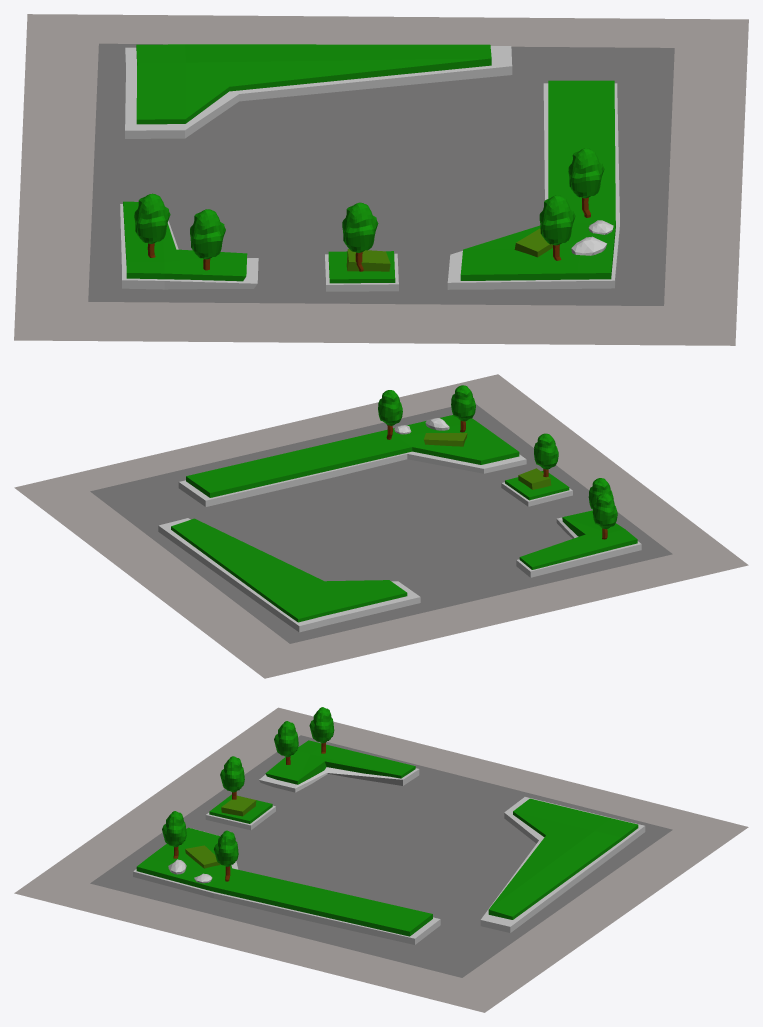
The model's file is sz_out4simp.glb.
3 views of the same model, one above another, from view 1: azimuth 30°, elevation 25°; view 2: azimuth 150°, elevation 25°; view 3: azimuth 270°, elevation 25° (orthographic). The views are drawn at different scales.
Parts seen in each view (by area): view 1: Ground, Ground.001, TreeGrass.003, TreeGrass.001, PlantHolder.003, TreeGrass.002, PlantHolder.002, PlantHolder, Leaves.001, Leaves, Leaves.002, Leaves.003 (+5 smaller); view 2: Ground, Ground.001, TreeGrass.001, TreeGrass.003, PlantHolder.002, PlantHolder.003, TreeGrass.002, PlantHolder, TreeGrass, Leaves.001, Leaves.002, Leaves.003 (+3 smaller); view 3: Ground, Ground.001, TreeGrass.001, TreeGrass.003, TreeGrass.002, PlantHolder.003, PlantHolder.002, PlantHolder, Leaves.001, Leaves.002, Leaves.004, Leaves (+2 smaller).
Boxes of the visible parts, x1,y1,x2,y2 form: Ground: (88,43,674,305); Ground.001: (14,14,748,345); TreeGrass.003: (136,44,491,124); TreeGrass.001: (460,80,615,280); PlantHolder.003: (125,46,512,138); TreeGrass.002: (123,201,247,281); PlantHolder.002: (447,83,619,289); PlantHolder: (120,204,258,289); Leaves.001: (342,202,378,252); Leaves: (568,148,604,198); Leaves.002: (539,195,575,245); Leaves.003: (134,193,170,243); Ground: (90,404,672,643); Ground.001: (14,374,748,678); TreeGrass.001: (186,415,519,497); TreeGrass.003: (171,518,407,622); PlantHolder.002: (178,451,526,506); PlantHolder.003: (158,518,420,632); TreeGrass.002: (519,510,637,569); PlantHolder: (516,517,641,577); TreeGrass: (505,471,569,500); Leaves.001: (534,433,558,469); Leaves.002: (451,385,475,421); Leaves.003: (592,493,617,529); Ground: (90,735,672,977); Ground.001: (14,707,748,1012); TreeGrass.001: (136,827,432,936); TreeGrass.003: (488,798,638,919); TreeGrass.002: (265,740,415,784); PlantHolder.003: (480,797,645,932); PlantHolder.002: (133,828,440,944); PlantHolder: (259,767,419,792); Leaves.001: (220,756,244,792); Leaves.002: (162,811,186,847); Leaves.004: (274,721,298,757); Leaves: (214,830,238,866).
Bounding box in the file's own units: 140 × 13.92 × 142.
